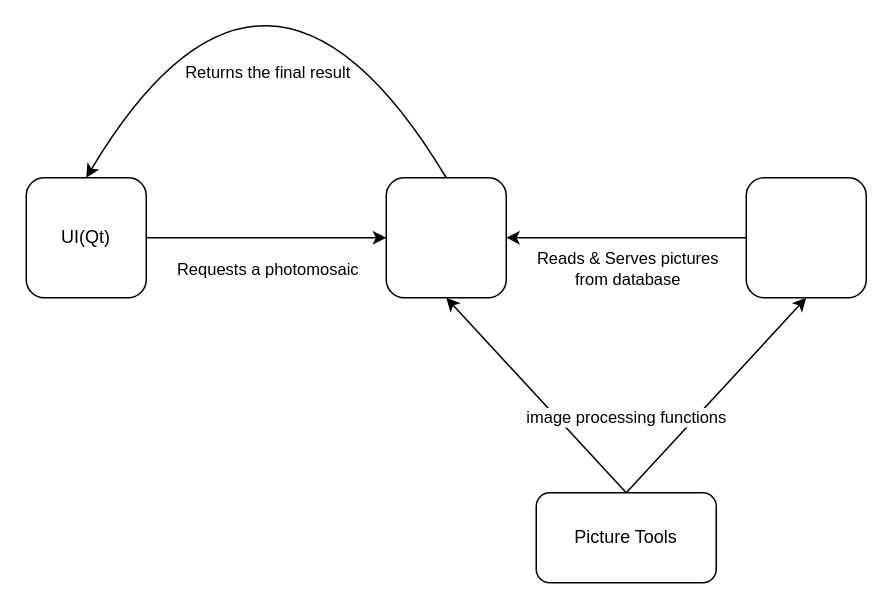
The diagram is 893 pixels wide and 611 high, and some of its shapes have lost their labels. Each missing label, with the centre of its shape:
Base Pictures: the point at 805,237
Mosaic: the point at 445,237
